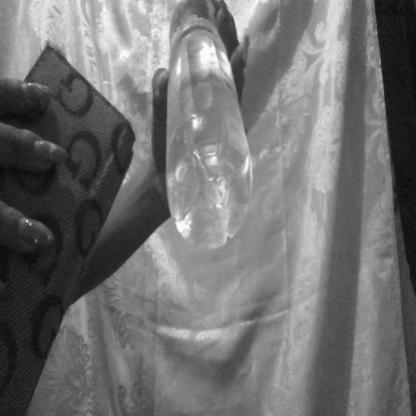Plastic Bottle: (164, 2, 258, 250)
